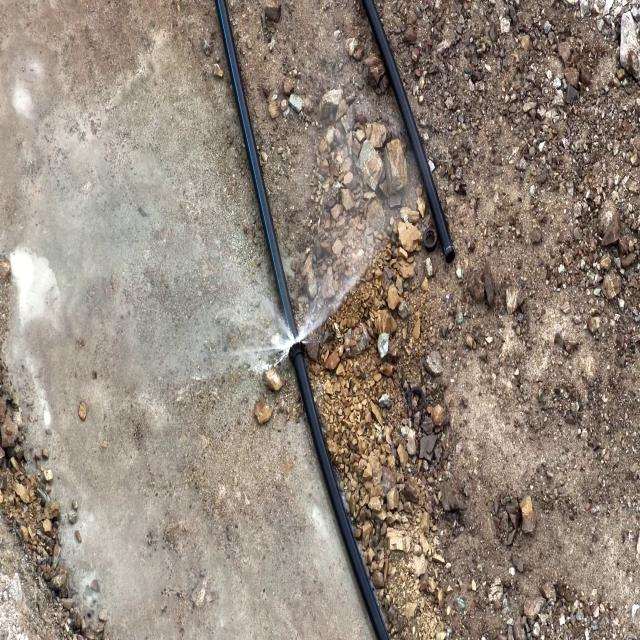leak: (222, 264, 370, 374)
